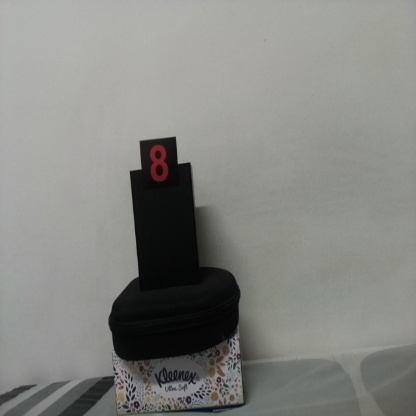id_8: (140, 141, 178, 193)
